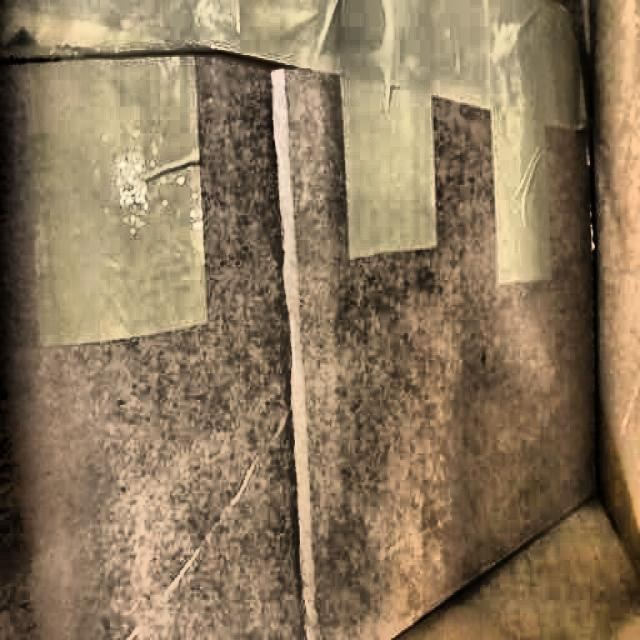cardboard: (15, 7, 640, 620)
